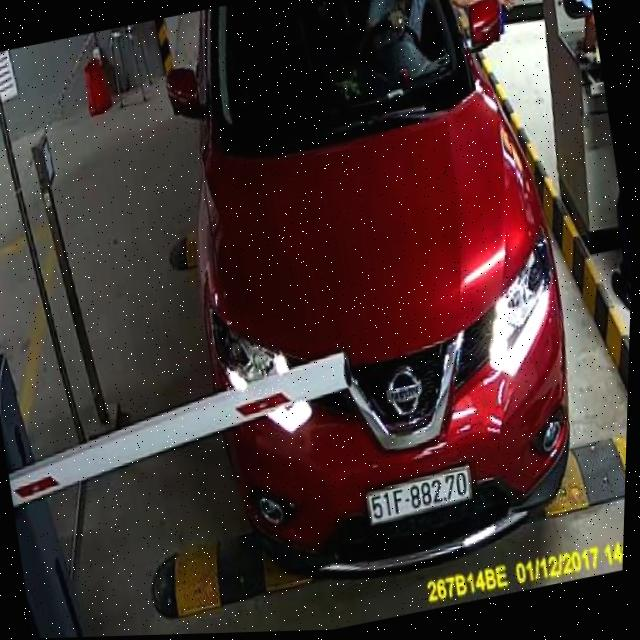car: (132, 0, 618, 609)
plate: (357, 459, 486, 528)
